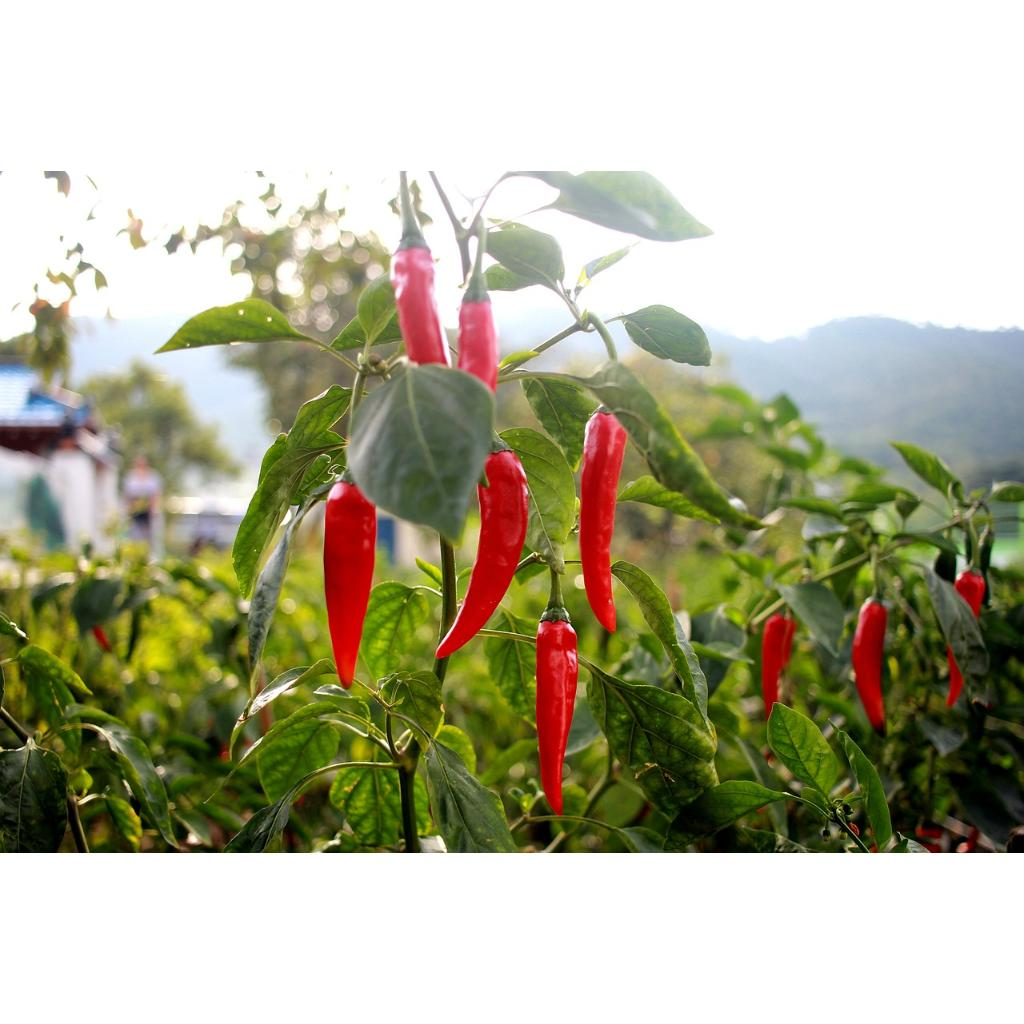chili: (436, 451, 528, 657), (392, 171, 448, 365), (324, 481, 376, 688), (580, 409, 626, 633), (536, 621, 578, 815), (947, 571, 986, 707), (852, 599, 888, 735), (458, 301, 498, 391), (762, 613, 788, 718)
